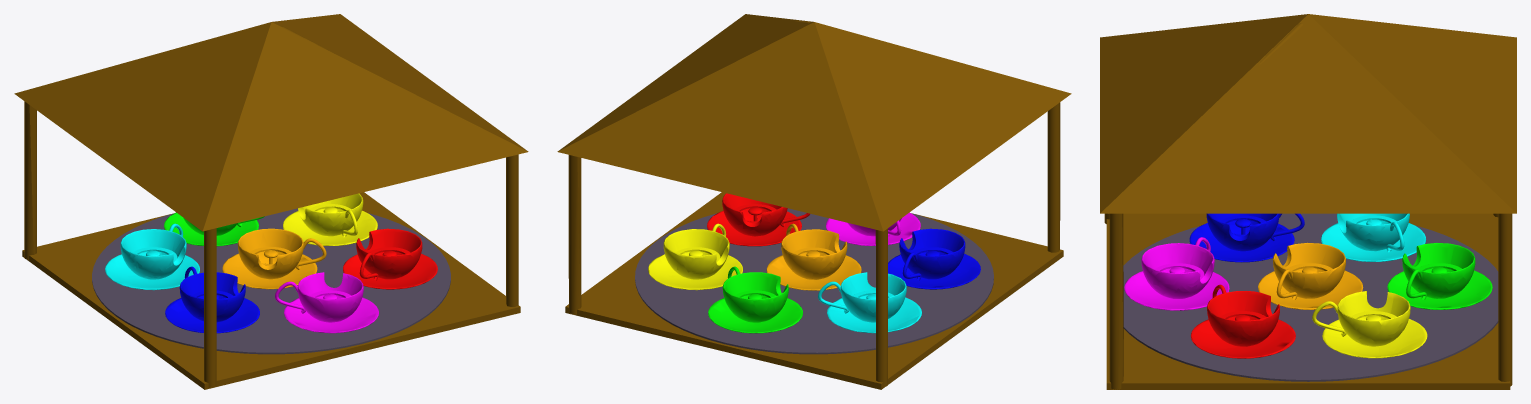
Rendered from TeacupRide.fbx.
3 views of the same model, side by side, from view 1: azimuth 30°, elevation 25°; view 2: azimuth 150°, elevation 25°; view 3: azimuth 270°, elevation 25° (orthographic). The views are drawn at different scales.
Parts seen in each view (by area): view 1: Tent, Ride_Surface, Cup1, Cup5, Cup3, Cup2, Cup4, Cup7, Saucer3, Saucer4, Saucer5, Saucer2 (+3 smaller); view 2: Tent, Ride_Surface, Cup7, Cup1, Cup6, Cup4, Cup5, Cup2, Saucer6, Saucer7, Saucer4, Saucer5 (+3 smaller); view 3: Tent, Ride_Surface, Cup3, Cup7, Cup2, Cup6, Cup1, Cup4, Cup5, Saucer2, Saucer7, Saucer3 (+4 smaller).
Part boxes in pixels (<box>): Tent: <box>14,14,528,389</box>; Ride_Surface: <box>92,208,450,354</box>; Cup1: <box>237,228,326,279</box>; Cup5: <box>120,223,186,279</box>; Cup3: <box>275,272,363,322</box>; Cup2: <box>356,228,422,280</box>; Cup4: <box>179,266,245,322</box>; Cup7: <box>298,193,363,237</box>; Saucer3: <box>284,297,378,333</box>; Saucer4: <box>165,298,259,333</box>; Saucer5: <box>105,254,199,290</box>; Saucer2: <box>343,253,437,289</box>; Tent: <box>557,14,1071,389</box>; Ride_Surface: <box>635,208,993,354</box>; Cup7: <box>663,223,729,279</box>; Cup1: <box>781,223,847,279</box>; Cup6: <box>722,266,788,322</box>; Cup4: <box>899,228,965,280</box>; Cup5: <box>818,272,906,322</box>; Cup2: <box>722,193,809,236</box>; Saucer6: <box>708,298,802,333</box>; Saucer7: <box>648,254,742,290</box>; Saucer4: <box>888,254,980,289</box>; Saucer5: <box>827,297,921,333</box>; Tent: <box>1100,14,1516,389</box>; Ride_Surface: <box>1123,213,1498,381</box>; Cup3: <box>1141,237,1214,298</box>; Cup7: <box>1312,291,1410,346</box>; Cup2: <box>1207,284,1279,346</box>; Cup6: <box>1402,243,1475,299</box>; Cup1: <box>1273,242,1345,299</box>; Cup4: <box>1206,213,1304,251</box>; Cup5: <box>1337,213,1409,252</box>; Saucer2: <box>1191,319,1295,358</box>; Saucer7: <box>1322,319,1427,358</box>; Saucer3: <box>1124,271,1229,310</box>.
Size of the model in its own units: 420 by 323 by 420.
